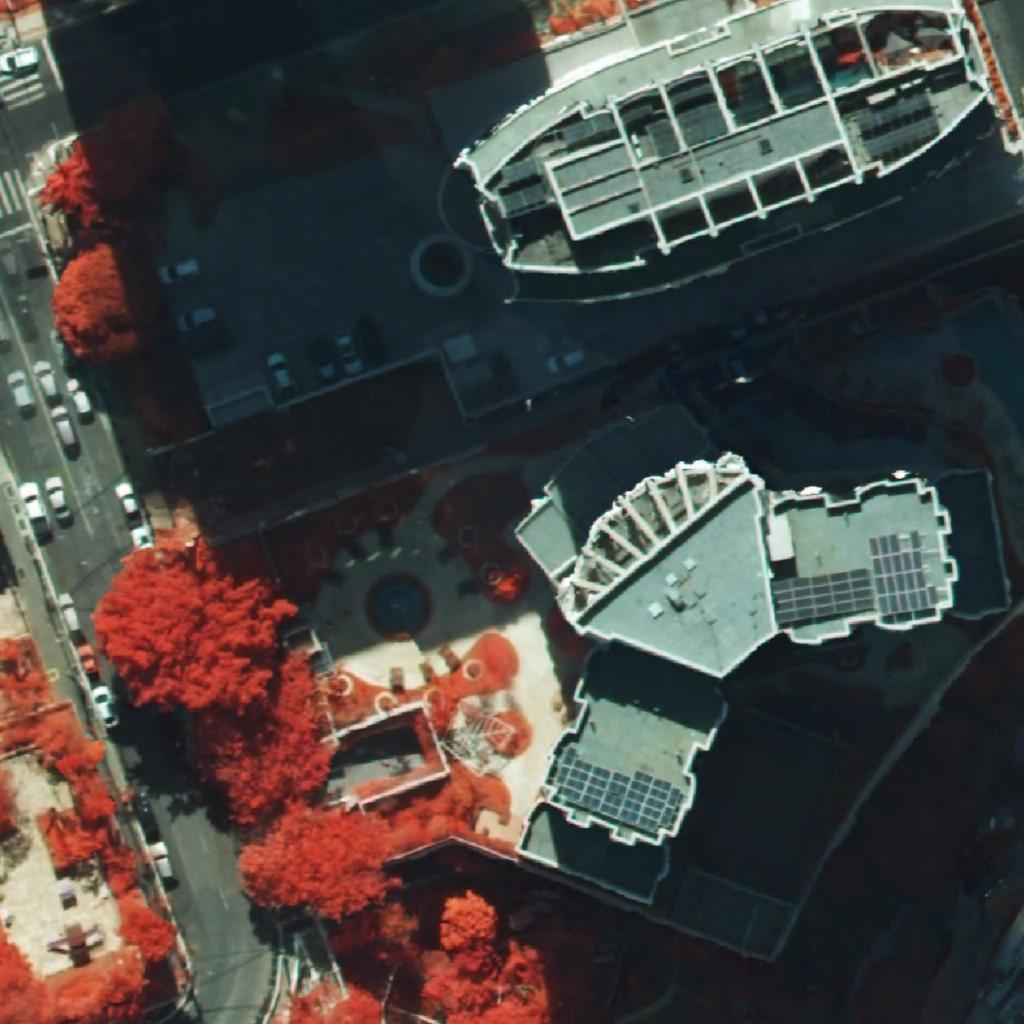pool: (951, 300, 1024, 438)
